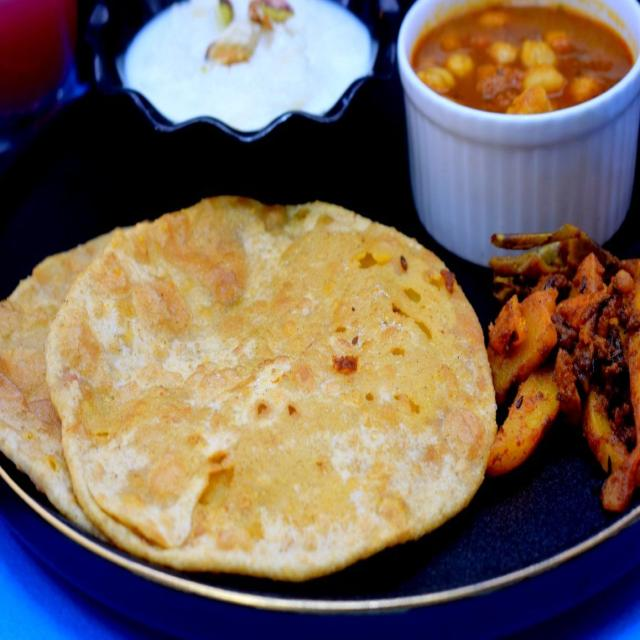potato: (472, 162, 640, 521), (427, 12, 634, 106)
puri: (6, 195, 478, 558)
